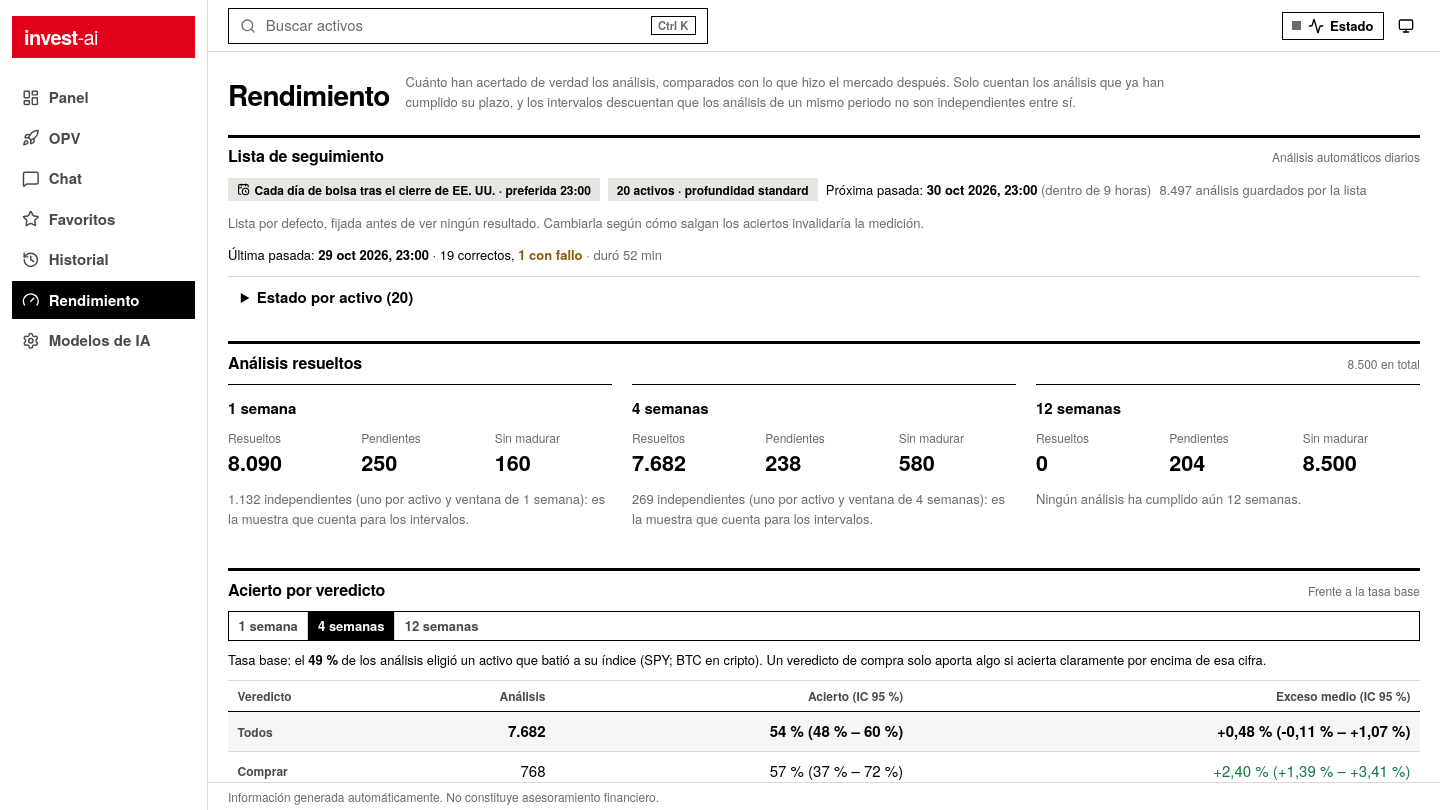
Test: PerformancePage › con historial muestra la tabla con intervalos, la tasa base, la fiabilidad y los avisos
Expected: the row "Todos 7.682 54 % (48 % – 60 %) +0,48 % (-0,11 % – +1,07 %)" is shown, x1=228 y1=712 x2=1420 y2=751
Expected: the text "Tasa base" is shown, x1=228 y1=650 x2=308 y2=669
// Sin nada madurado: mensaje honesto en vez de porcentajes.
Click the button "12 semanas" at (442, 626), box x1=395 y1=612 x2=488 y2=640
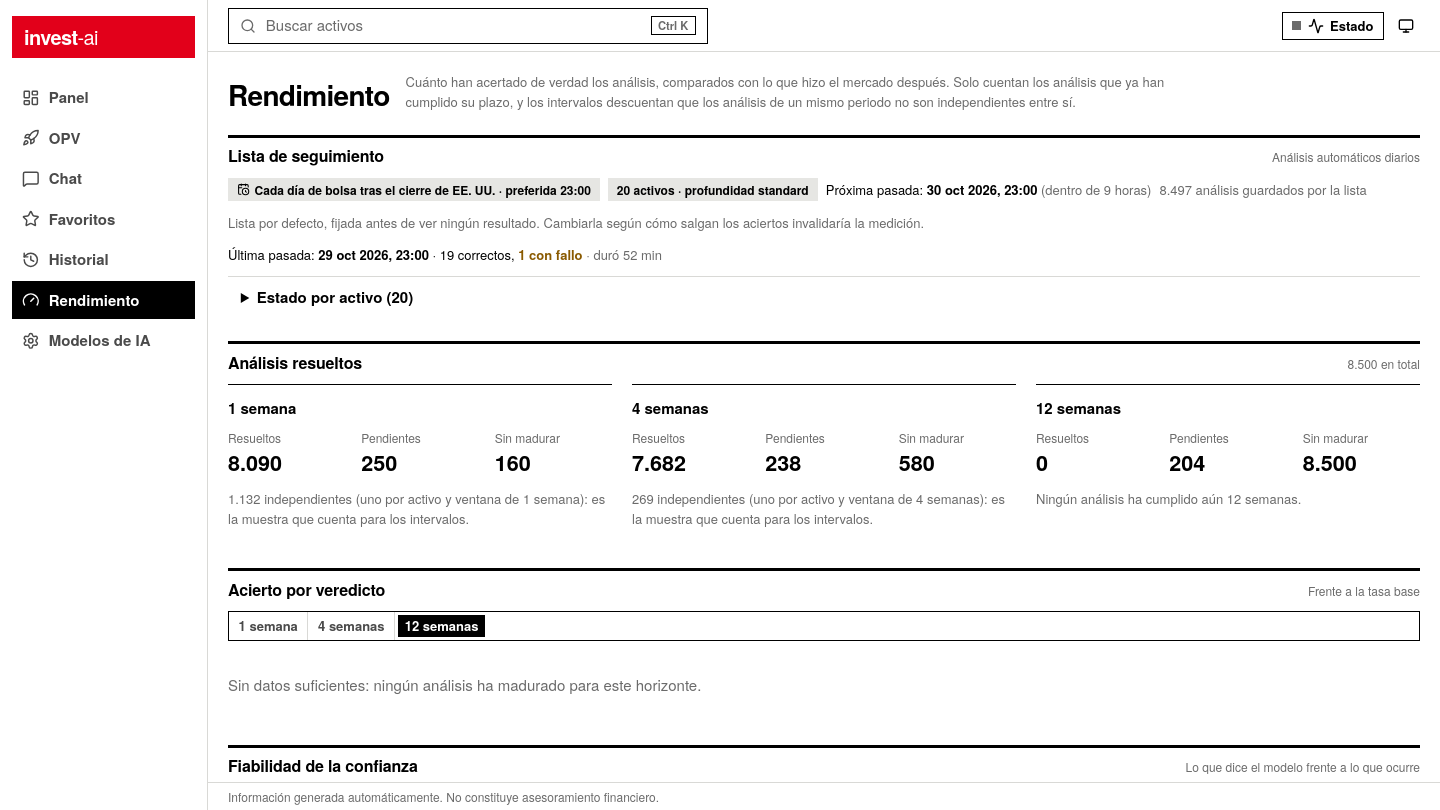
Now the text "Sin datos suficientes: ningún análisis ha madurado" is shown, box x1=228 y1=674 x2=701 y2=695
